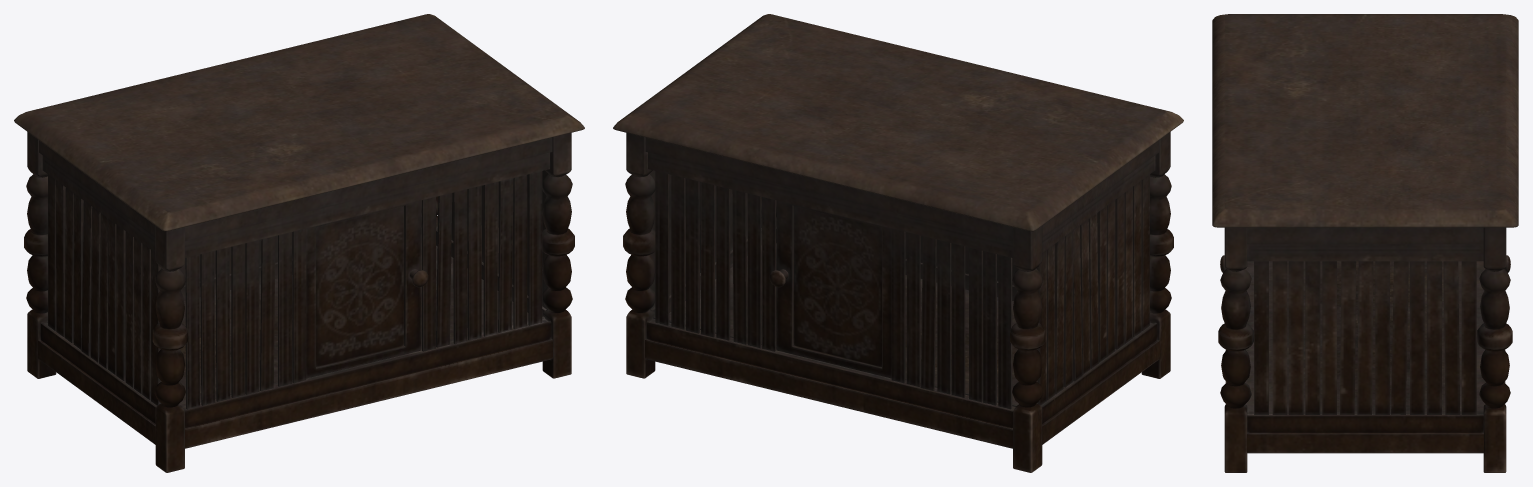
File: gallinera_table.glb
3 views of the same model, side by side, from view 1: azimuth 30°, elevation 25°; view 2: azimuth 150°, elevation 25°; view 3: azimuth 270°, elevation 25° (orthographic).
Visible parts, largest first — view 1: gallinera_table, gallinera_table_door_a; view 2: gallinera_table, gallinera_table_door_b; view 3: gallinera_table.
Part boxes in pixels (x1,y1,x2,y2): gallinera_table: [14, 14, 584, 472]; gallinera_table_door_a: [306, 200, 428, 378]; gallinera_table: [613, 14, 1183, 472]; gallinera_table_door_b: [769, 200, 891, 378]; gallinera_table: [1212, 14, 1518, 472].
Bounding box in the file's own units: 0.8301 × 0.4878 × 0.5183.
1 material, 1 textured.
